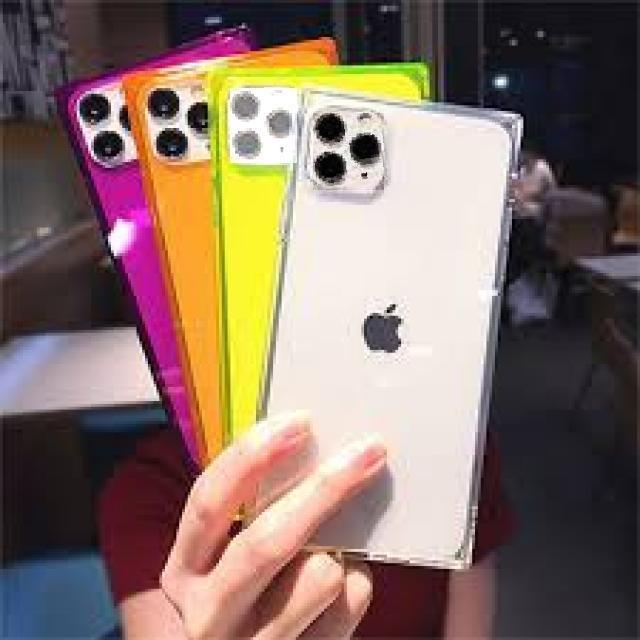Mobile: (251, 94, 535, 571)
